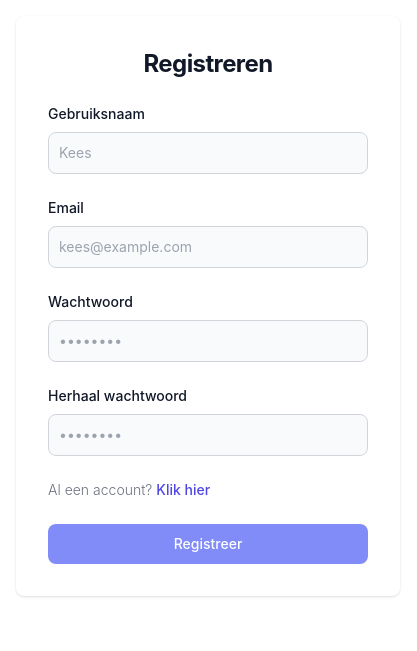
Test: Test register page › Registreer met verschillende wachtwoorden
The width and height of the screenshot is (417, 651).
Type "test" into the field with id "gebruiksnaam" at (208, 153), box [48,132,368,174]
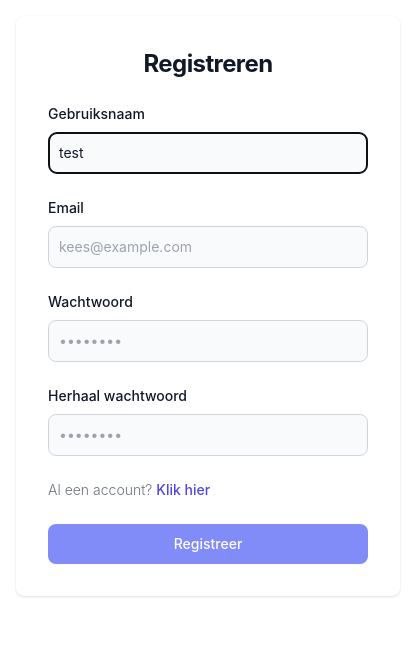
Type "test@test.com" into the field with id "email" at (208, 247), box [48,226,368,268]
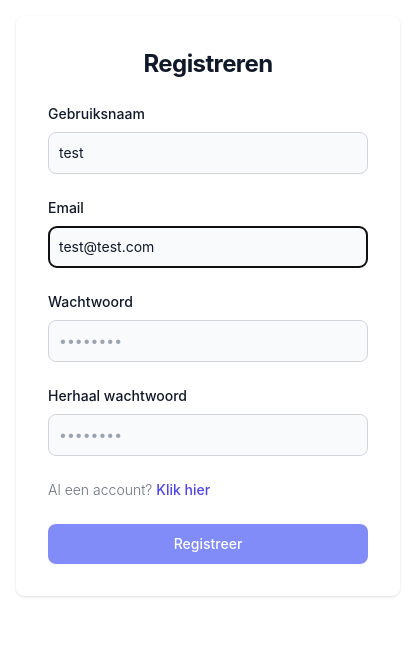
Type "test" into the password field with id "wachtwoord" at (208, 341), box [48,320,368,362]
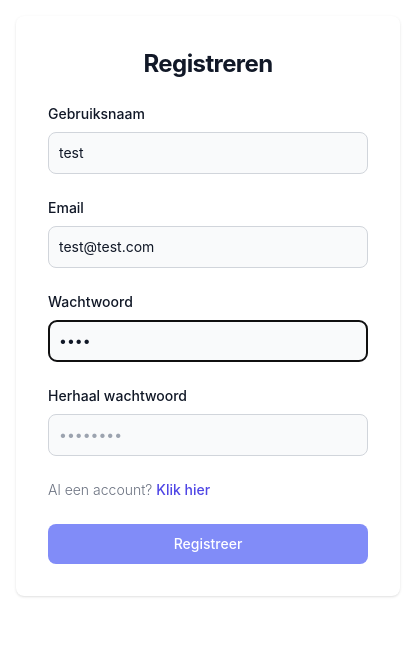
Type "test1" into the password field with id "herhaal-wachtwoord" at (208, 435), box [48,414,368,456]
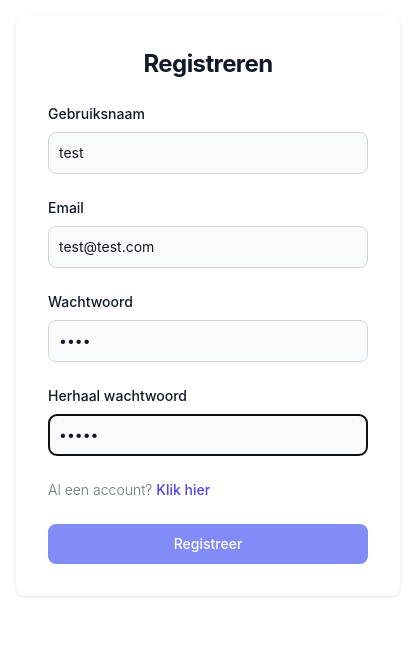
Click the button "Registreer" at (208, 544), box [48,524,368,564]
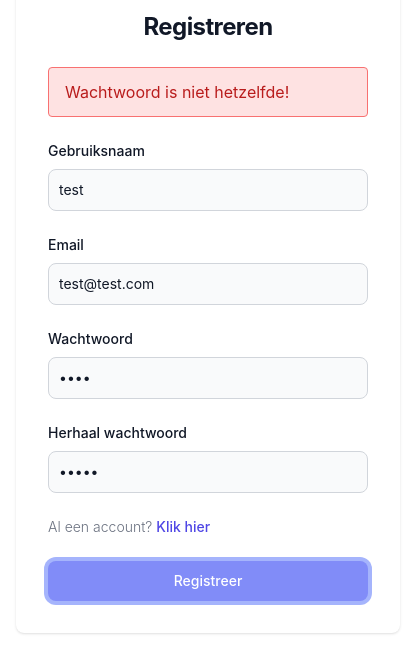
Check: the text "Wachtwoord is niet hetzelfde!" is shown, box [65,82,289,102]
